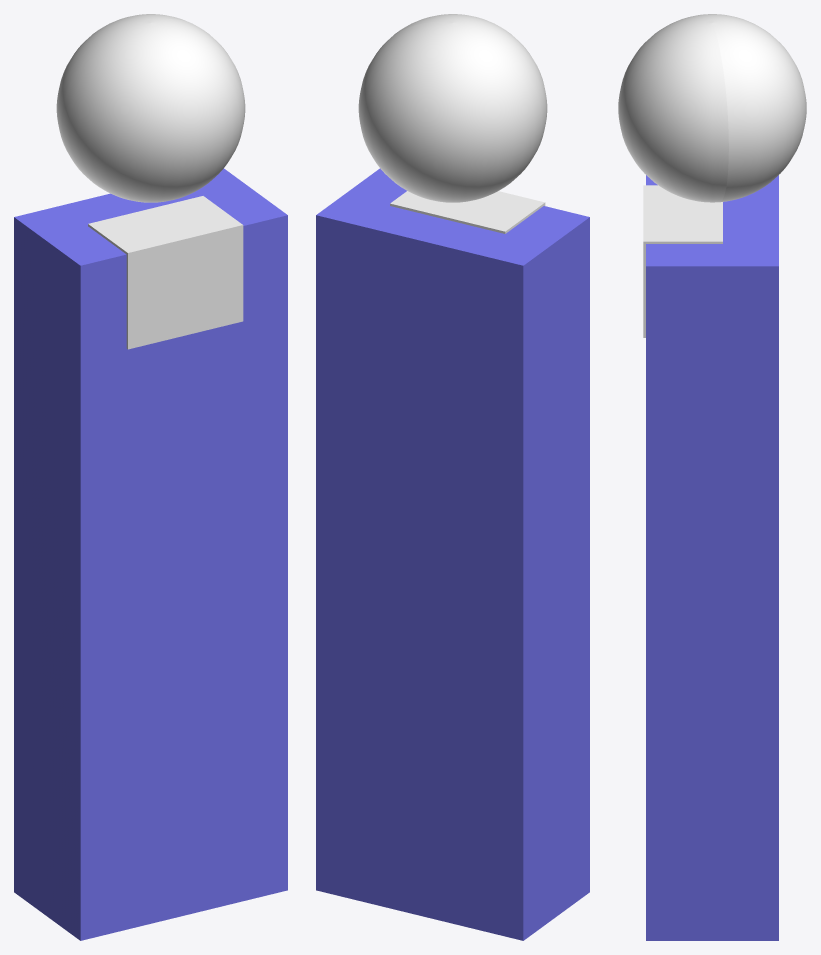
The model's file is SK_DvProxy.FBX.
3 views of the same model, side by side, from view 1: azimuth 30°, elevation 25°; view 2: azimuth 150°, elevation 25°; view 3: azimuth 270°, elevation 25° (orthographic).
Visible parts, largest first — view 1: Proxy; view 2: Proxy; view 3: Proxy.
Boxes of the visible parts, x1,y1,x2,y2 form: Proxy: (14,14,287,940); Proxy: (316,14,589,940); Proxy: (618,14,806,940).
Bounding box in the file's own units: 45 × 180 × 35.48.
